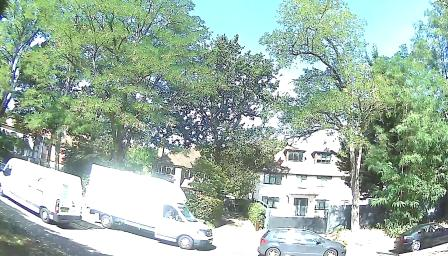Cars: (81, 161, 218, 251), (7, 155, 89, 229), (253, 220, 350, 256), (390, 225, 448, 252)
